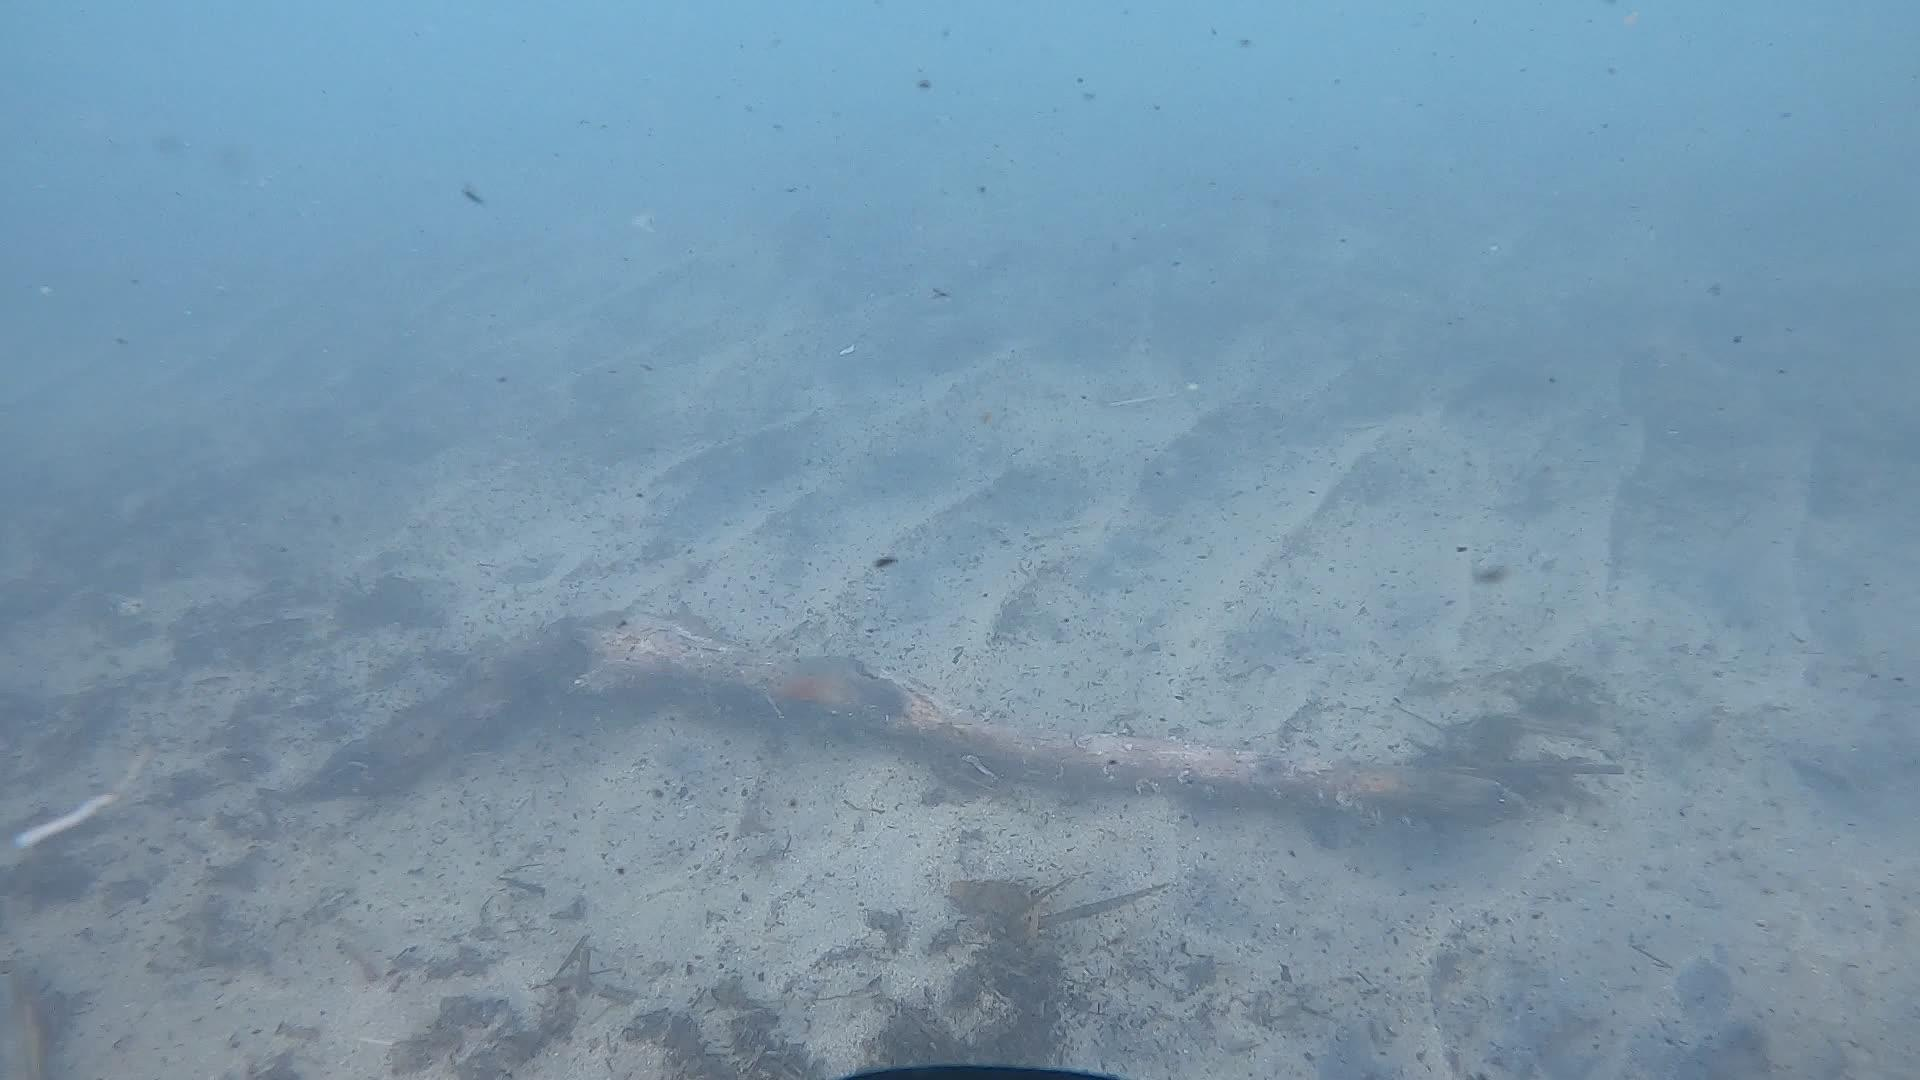wood: (576, 616, 1520, 820)
